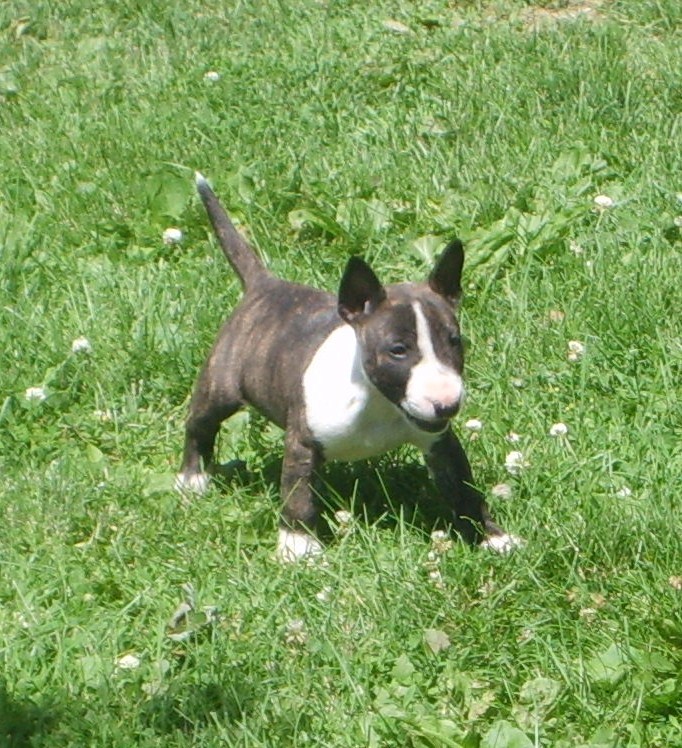bull_terrier: (174, 169, 520, 563)
